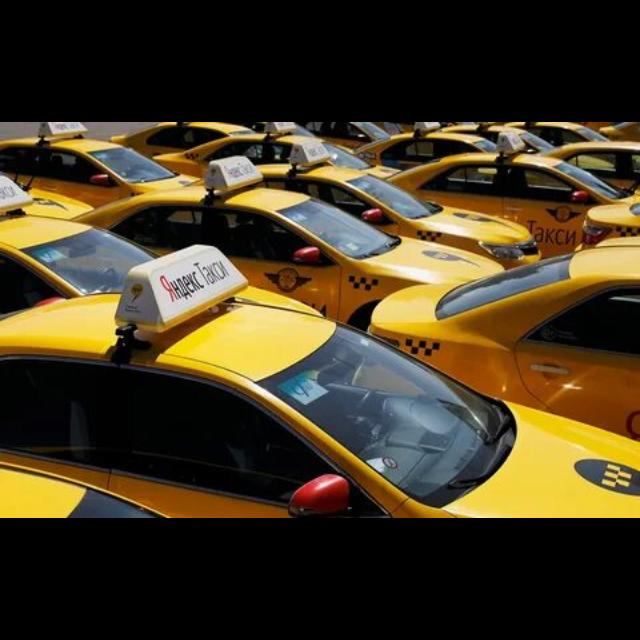taxi: (1, 243, 639, 517), (79, 187, 504, 329), (373, 248, 640, 440), (259, 166, 541, 269), (391, 154, 631, 267), (1, 216, 155, 315), (1, 139, 199, 207), (155, 134, 316, 177), (356, 133, 497, 170), (112, 123, 255, 157), (546, 143, 640, 190), (579, 204, 640, 250), (507, 123, 609, 147), (306, 123, 390, 149), (325, 145, 371, 171)
